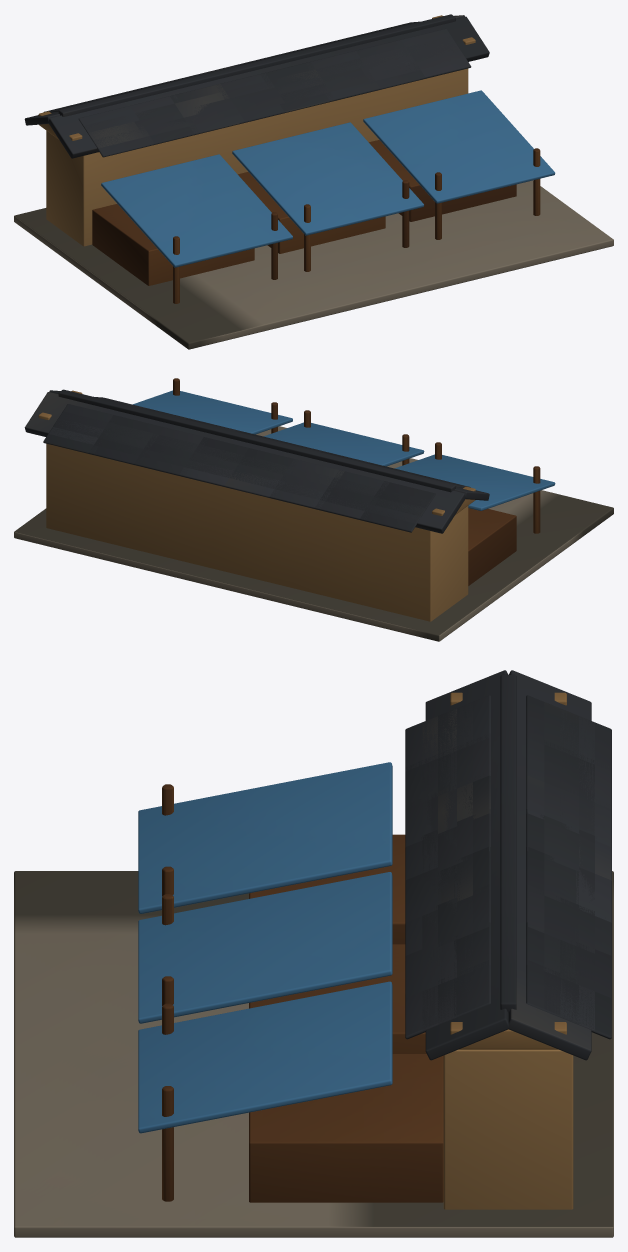
File: building_freetown_black_market.fbx
3 views of the same model, one above another, from view 1: azimuth 30°, elevation 25°; view 2: azimuth 150°, elevation 25°; view 3: azimuth 270°, elevation 25° (orthographic). The views are drawn at different scales.
Visible parts, largest first — view 1: building_freetown_black_market; view 2: building_freetown_black_market; view 3: building_freetown_black_market.
Part boxes in pixels (box(x1,y1,x2,y2)): building_freetown_black_market: box(14, 14, 613, 349); building_freetown_black_market: box(14, 378, 613, 641); building_freetown_black_market: box(14, 670, 613, 1237).
Size of the model in its own units: 10.4 by 3.02 by 7.4.
